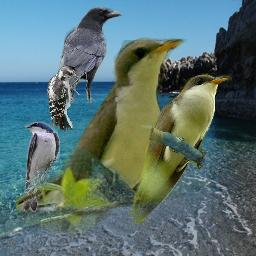Crow: (54, 7, 122, 103)
Cuckoo: (16, 33, 188, 236), (128, 73, 232, 225)
Swallow: (21, 121, 60, 212)
Woodpecker: (47, 66, 80, 132)
